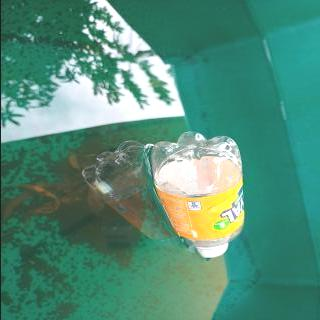bottle: (146, 128, 248, 260)
